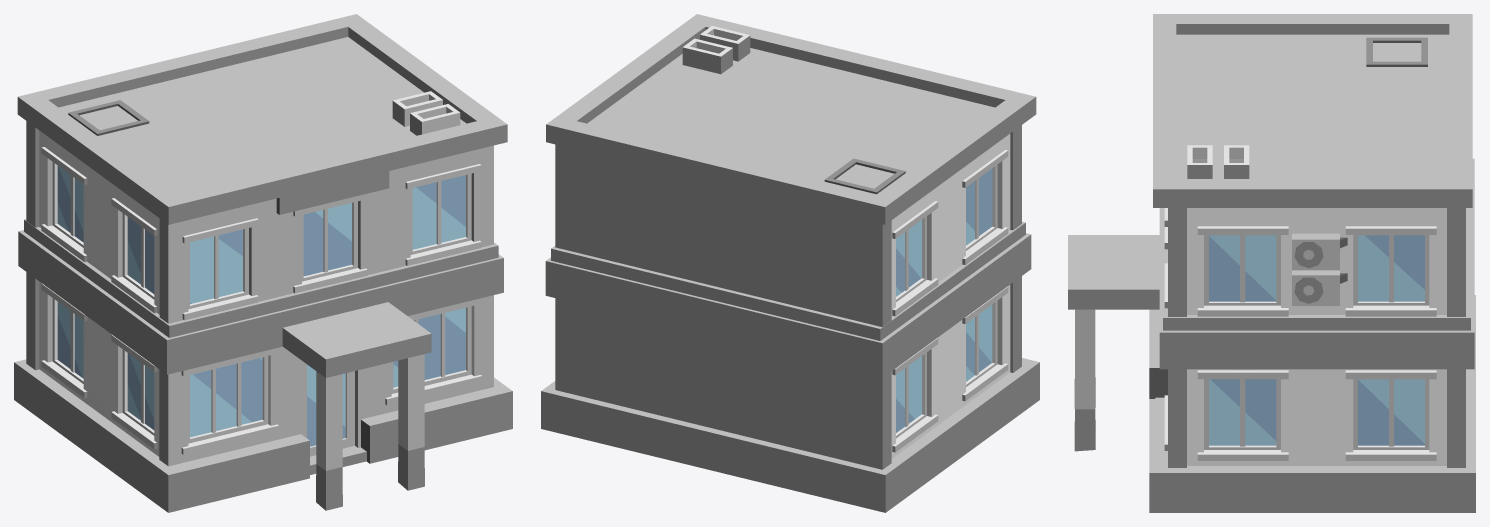
Rendered from bank_003.fbx.
The picture shows the model from 3 angles, left to right: view 1: azimuth 30°, elevation 25°; view 2: azimuth 150°, elevation 25°; view 3: azimuth 270°, elevation 25°; orthographic projection. The views are drawn at different scales.
Visible parts, largest first — view 1: bank_003; view 2: bank_003; view 3: bank_003.
Part boxes in pixels (left/top/right/bottom): bank_003: left=14, top=14, right=512, bottom=512; bank_003: left=541, top=14, right=1039, bottom=512; bank_003: left=1068, top=14, right=1475, bottom=512.
Size of the model in its own units: 710 by 617 by 687.
